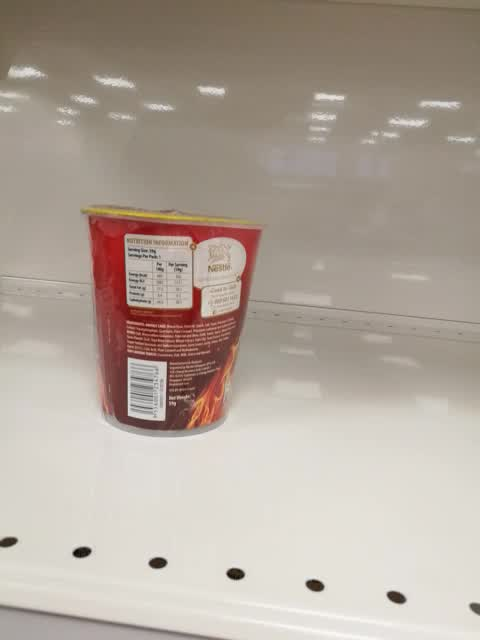maggi: (77, 204, 271, 438)
